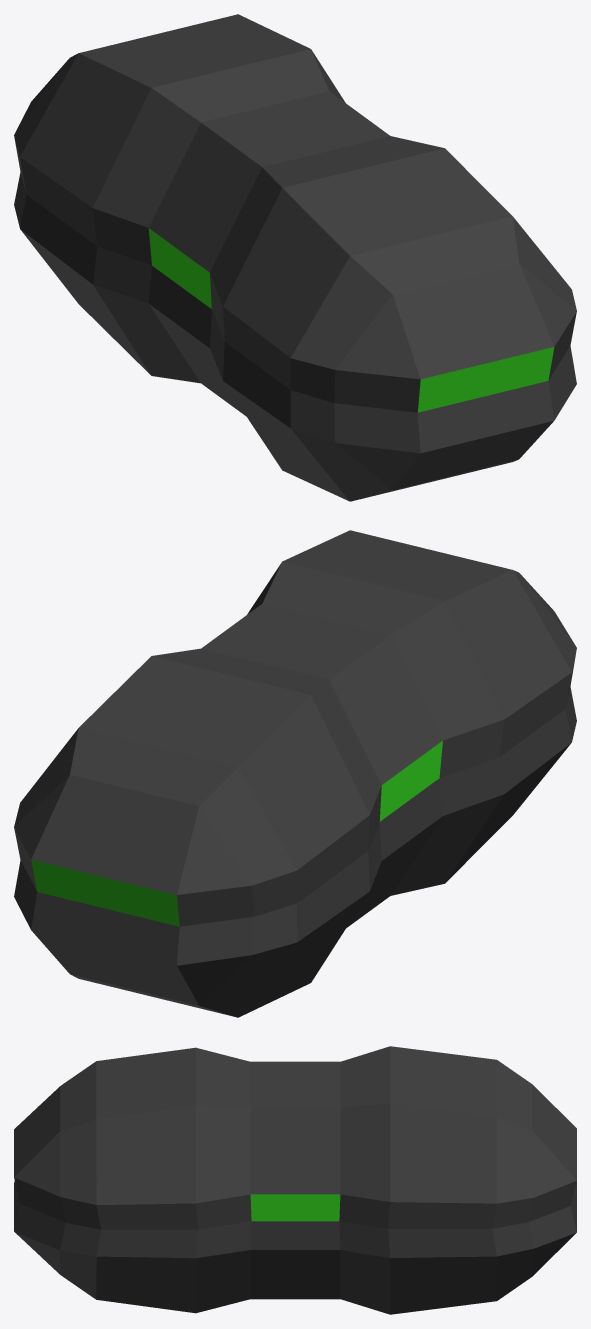
The model's file is Borg_Prob.fbx.
The picture shows the model from 3 angles, top to bottom: view 1: azimuth 30°, elevation 25°; view 2: azimuth 150°, elevation 25°; view 3: azimuth 270°, elevation 25°; orthographic projection. The views are drawn at different scales.
Parts seen in each view (by area): view 1: Cube; view 2: Cube; view 3: Cube.
Boxes of the visible parts, x1,y1,x2,y2 form: Cube: (14, 14, 576, 501); Cube: (14, 530, 576, 1017); Cube: (14, 1046, 576, 1314).
Size of the model in its own units: 151 by 148 by 357.
